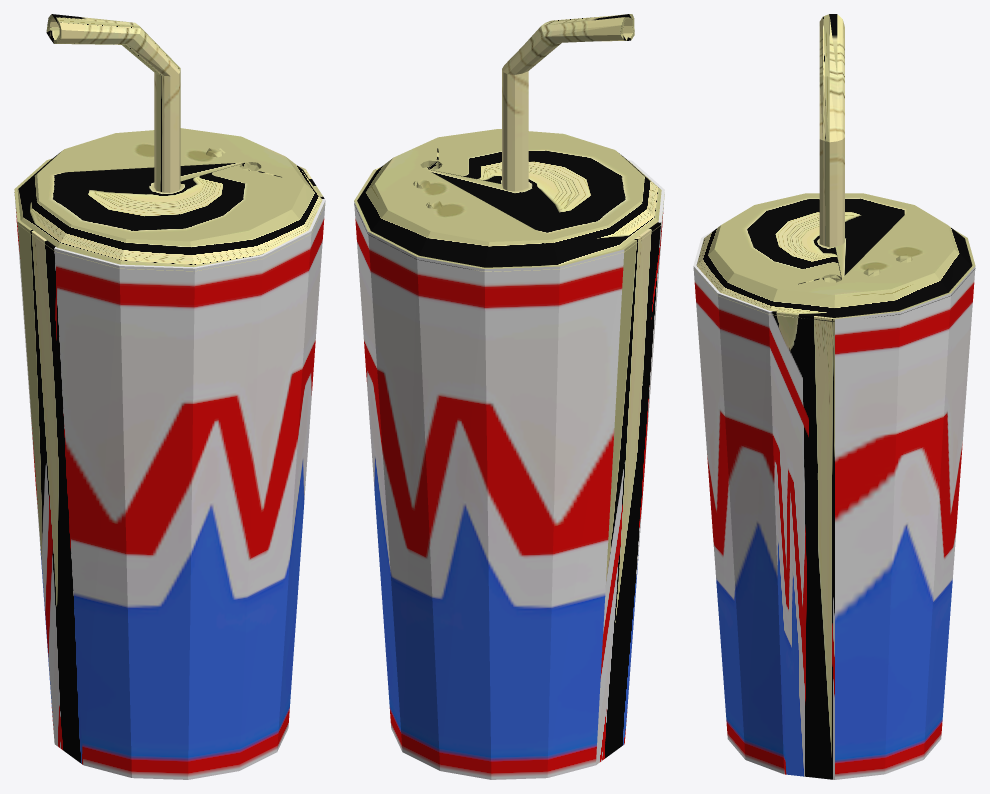
The model's file is Soda.glb.
3 renders of one model, left to right at view 1: azimuth 30°, elevation 25°; view 2: azimuth 150°, elevation 25°; view 3: azimuth 270°, elevation 25°, orthographic. The views are drawn at different scales.
Visible parts, largest first — view 1: Soda; view 2: Soda; view 3: Soda.
Part boxes in pixels (x1,y1,x2,y2): Soda: (14,14,325,779); Soda: (354,14,664,779); Soda: (693,14,975,779).
Bounding box in the file's own units: 78.97 × 208 × 79.46.
Materials: 1 (1 with a texture image).
